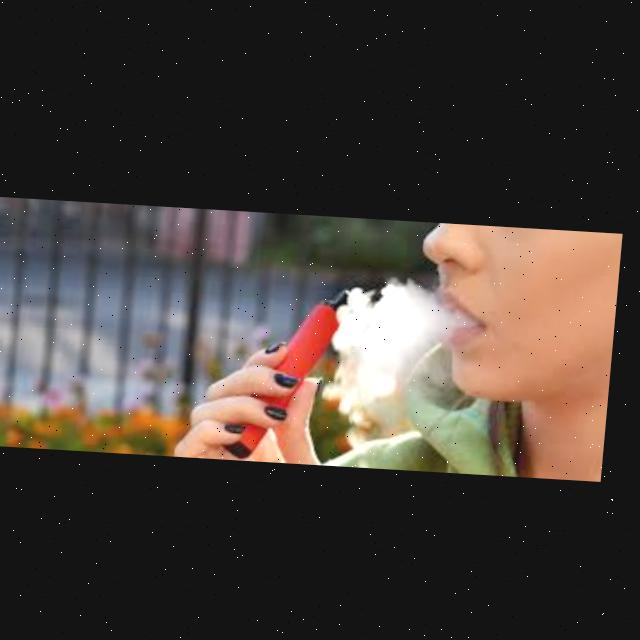vape: (231, 280, 361, 462)
